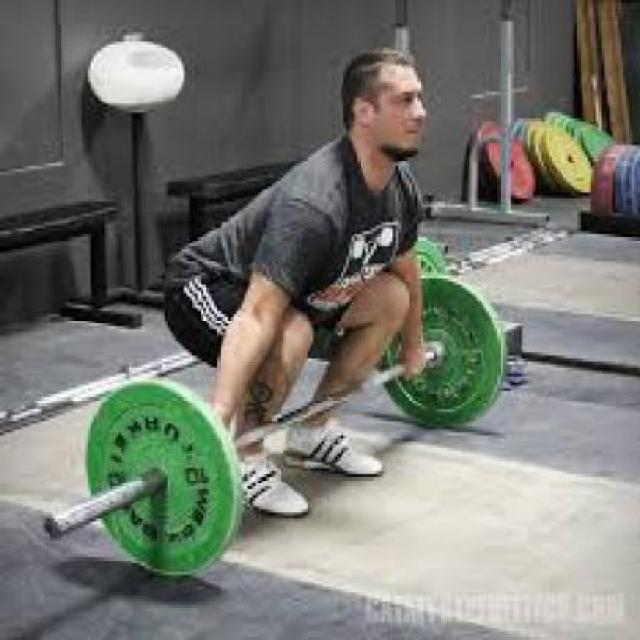barbell: (73, 370, 257, 590)
